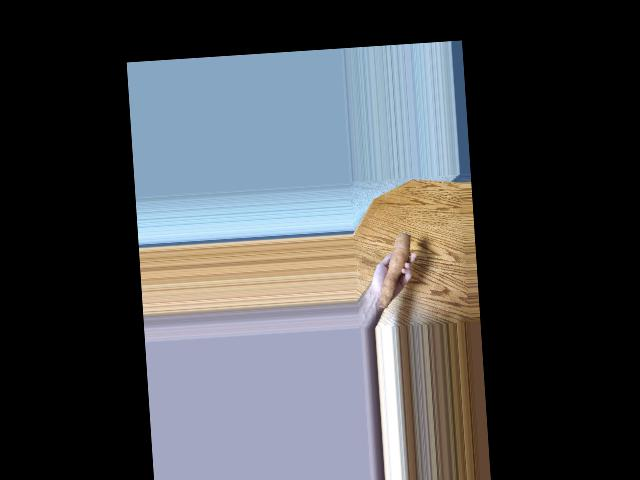sweet_potato: (373, 232, 416, 311)
